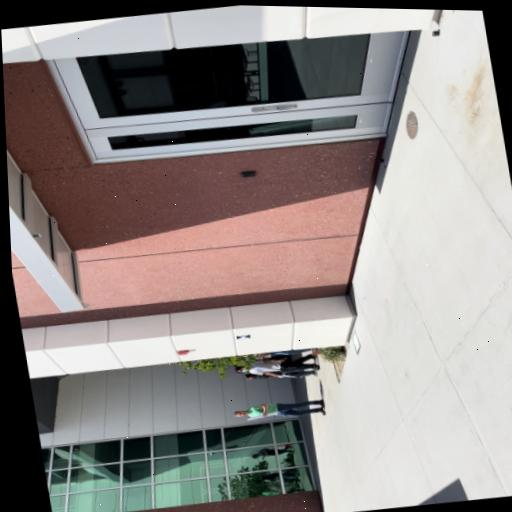target6: (236, 334, 250, 340)
